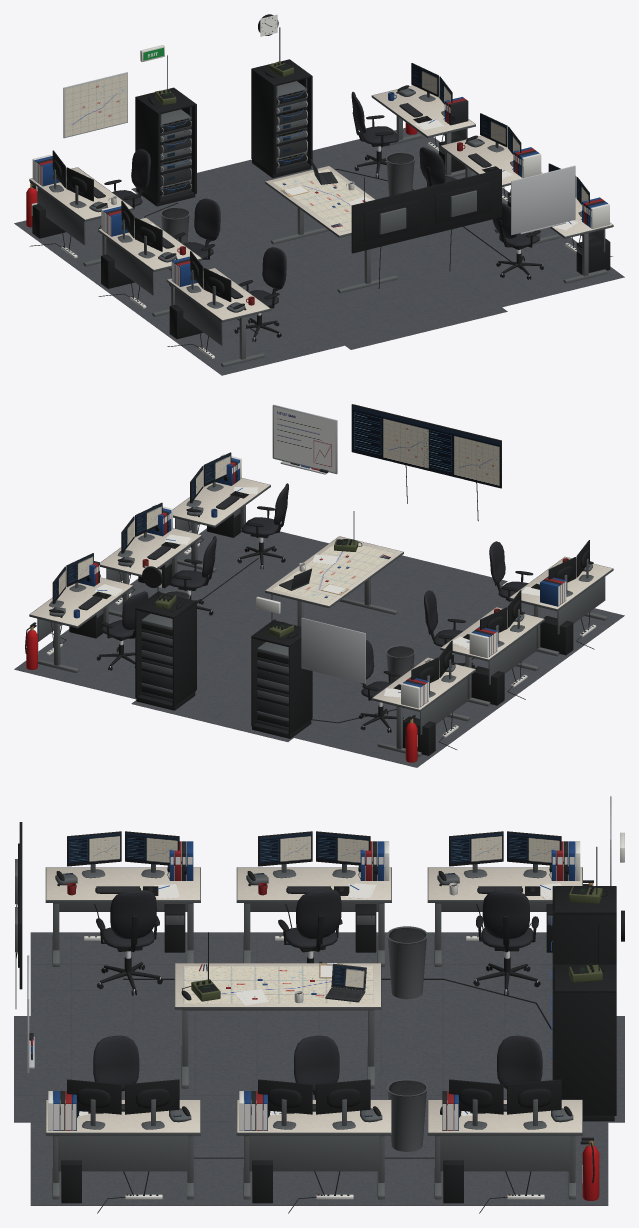
The model's file is mecc-fitout-command-post.glb.
3 renders of one model, top to bottom at view 1: azimuth 30°, elevation 25°; view 2: azimuth 150°, elevation 25°; view 3: azimuth 270°, elevation 25°, orthographic. The views are drawn at different scales.
Visible parts, largest first — view 1: MECC_fitout; view 2: MECC_fitout; view 3: MECC_fitout.
Boxes of the visible parts, <box> form: MECC_fitout: <box>14,14,624,375</box>; MECC_fitout: <box>14,404,624,767</box>; MECC_fitout: <box>14,796,624,1213</box>.
Bounding box in the file's own units: 6.65 × 2.11 × 5.92.
34 materials, 10 textured.
